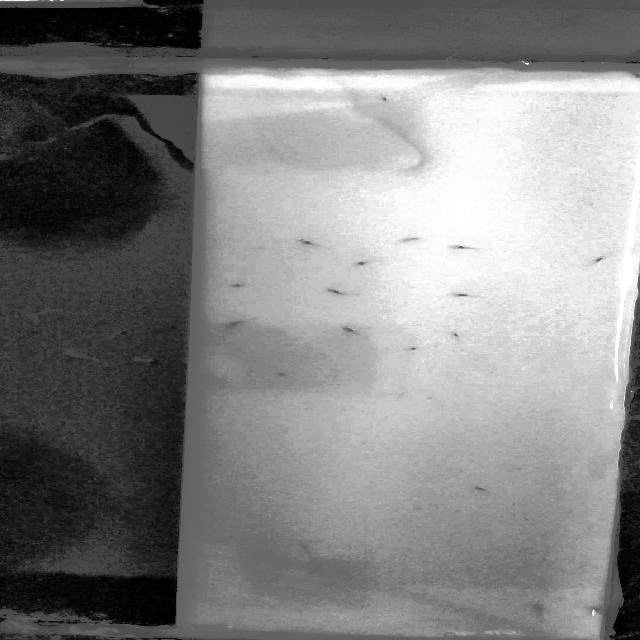shrimp: (470, 483, 505, 498), (223, 316, 263, 328), (319, 286, 362, 297), (526, 599, 549, 617), (590, 249, 614, 266), (350, 257, 382, 269), (296, 235, 323, 247), (454, 245, 488, 254), (335, 324, 360, 334), (450, 292, 481, 300), (449, 330, 468, 340), (520, 632, 543, 640), (587, 606, 607, 614), (378, 94, 392, 104), (227, 283, 246, 290), (408, 343, 419, 352), (276, 371, 288, 378)
